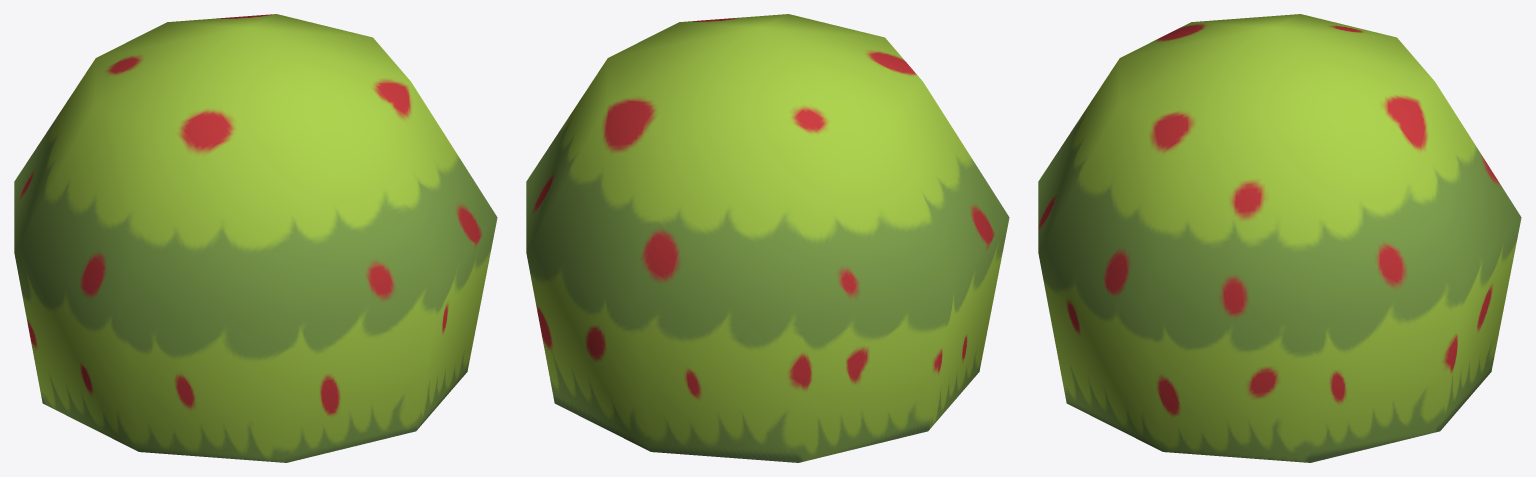
Rendered from arbustro01.FBX.
3 renders of one model, left to right at view 1: azimuth 30°, elevation 25°; view 2: azimuth 150°, elevation 25°; view 3: azimuth 270°, elevation 25°, orthographic.
Parts seen in each view (by area): view 1: arbusto01; view 2: arbusto01; view 3: arbusto01.
Part boxes in pixels (bbox=[...]): arbusto01: bbox=[14, 14, 497, 462]; arbusto01: bbox=[526, 14, 1009, 462]; arbusto01: bbox=[1038, 14, 1521, 462].
Bounding box in the file's own units: 65.06 × 50.31 × 64.07.
